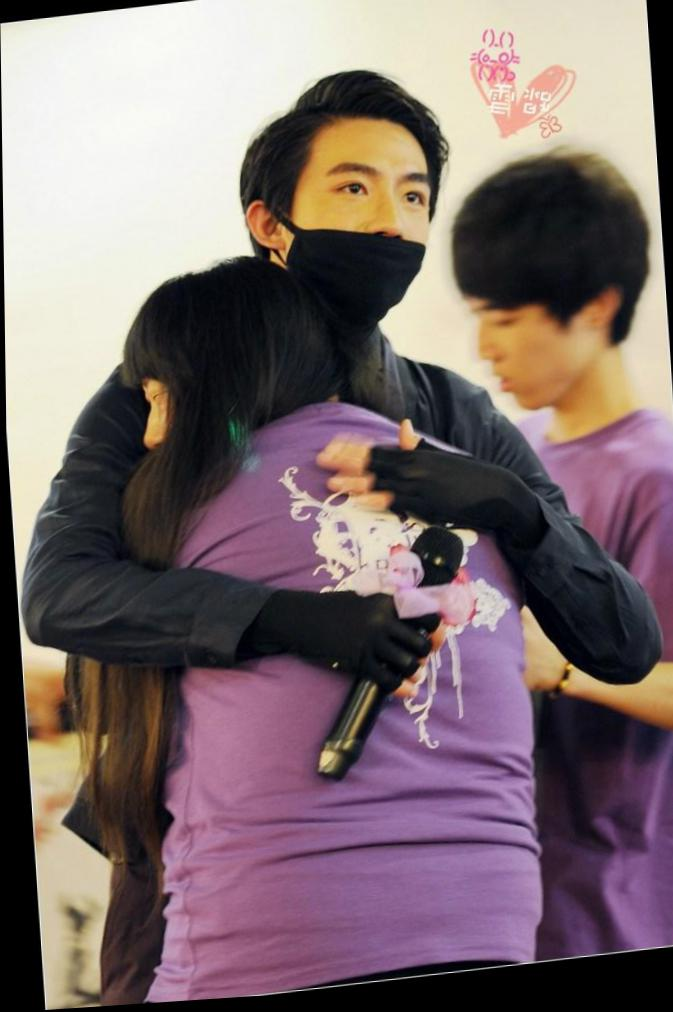NONE: (460, 286, 583, 424)
WRONG: (272, 144, 451, 330)
